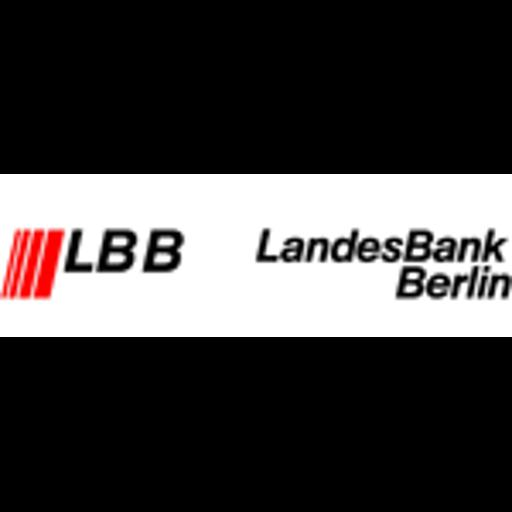Landesbank Berlin AG: (0, 174, 512, 337)
